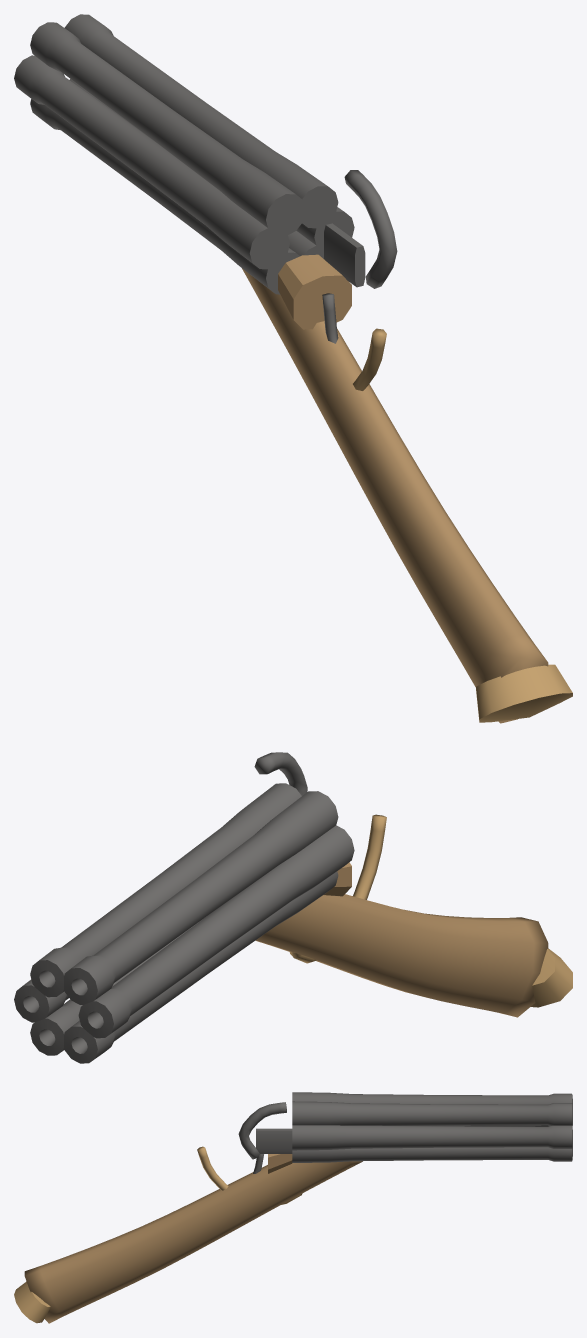
File: pepperbox.glb
3 renders of one model, top to bottom at view 1: azimuth 30°, elevation 25°; view 2: azimuth 150°, elevation 25°; view 3: azimuth 270°, elevation 25°, orthographic. The views are drawn at different scales.
Visible parts, largest first — view 1: pepperbox; view 2: pepperbox; view 3: pepperbox.
Boxes of the visible parts, left/top/right/bottom form: pepperbox: left=14, top=14, right=572, bottom=723; pepperbox: left=14, top=752, right=572, bottom=1063; pepperbox: left=14, top=1092, right=572, bottom=1323.
Size of the model in its own units: 0.1176 by 0.4197 by 0.9186.
